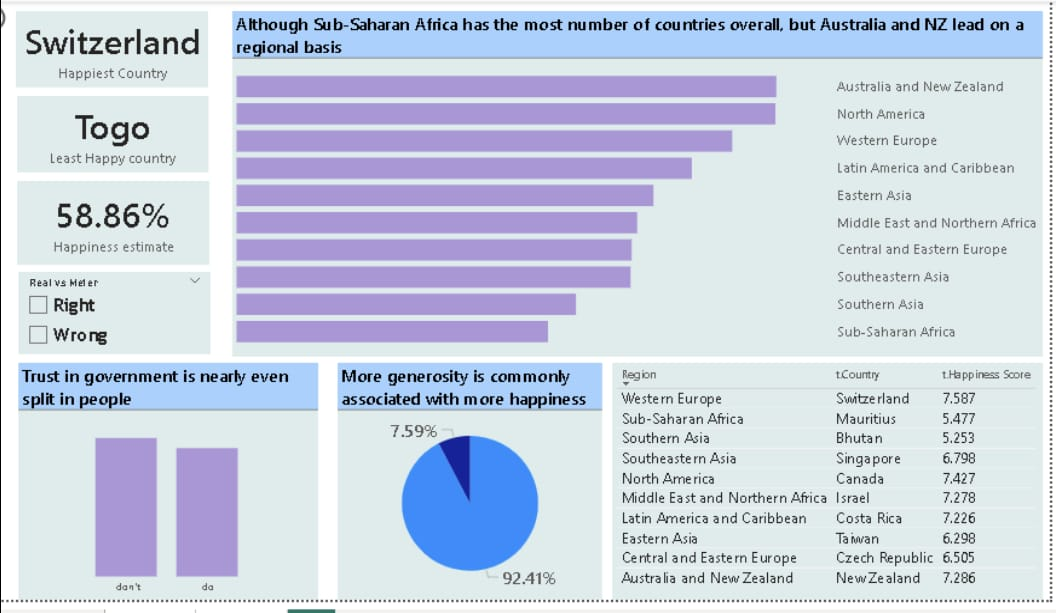

The dashboard page shown, as its layout file describes it:
{"tool":"powerbi","page":{"name":"Page 1","canvas":[1280,720],"ordinal":0},"visuals":[{"type":"card","fields":{"Values":["2015(in).Happiest Country"]},"box":[47.5,11.5,229,92.2],"z":0},{"type":"actionButton","box":[0,0,100,40],"z":1},{"type":"card","fields":{"Values":["2015(in).Least Happy country"]},"box":[49,113.8,227.5,92.2],"z":2},{"type":"barChart","title":"Although Sub-Saharan Africa has the most number of countries overall, but Australia and NZ lead on a regional basis","fields":{"Category":["2015(in).Region"],"Y":["Avg(2015(in).Happiness Score)"]},"box":[305.3,11.5,964.8,416.2],"z":3},{"type":"tableEx","fields":{"Values":["2015(in) (2).Region","2015(in) (2).Custom.Country","2015(in) (2).Custom.Happiness Score"]},"box":[757.4,434.9,512.6,285.1],"z":4},{"type":"columnChart","title":"Trust in government is nearly even split in people","fields":{"Category":["2015(in).has trust"],"Y":["CountNonNull(2015(in).has trust)"]},"box":[50.4,434.9,357.1,285.1],"z":7},{"type":"pieChart","title":"More generosity is commonly associated with more happiness","fields":{"Category":["2015(in).Generous"],"Y":["CountNonNull(2015(in).Generous)"]},"box":[430.6,434.9,315.4,285.1],"z":8},{"type":"slicer","fields":{"Values":["2015(in).Real vs Meter"]},"box":[50.4,325.4,229,99.4],"z":9},{"type":"card","fields":{"Values":["2015(in).Happiness estimate"]},"box":[49,216,229,100.8],"z":10}]}

Visuals, with their boxes on the page's 1280x720 design canvas (x1, y1, x2, y2). These are canvas units, not pixel positions in the 1056x613 screenshot, which may show the page scaled, cropped or inside an application window:
card - 2015(in).Happiest Country: bbox(48, 12, 276, 104)
actionButton: bbox(0, 0, 100, 40)
card - 2015(in).Least Happy country: bbox(49, 114, 276, 206)
"Although Sub-Saharan Africa has the most number of countries overall, but Australia and NZ lead on a regional basis" barChart: bbox(305, 12, 1270, 428)
tableEx - 2015(in) (2).Region x 2015(in) (2).Custom.Country: bbox(757, 435, 1270, 720)
"Trust in government is nearly even split in people" columnChart: bbox(50, 435, 408, 720)
"More generosity is commonly associated with more happiness" pieChart: bbox(431, 435, 746, 720)
slicer - 2015(in).Real vs Meter: bbox(50, 325, 279, 425)
card - 2015(in).Happiness estimate: bbox(49, 216, 278, 317)
